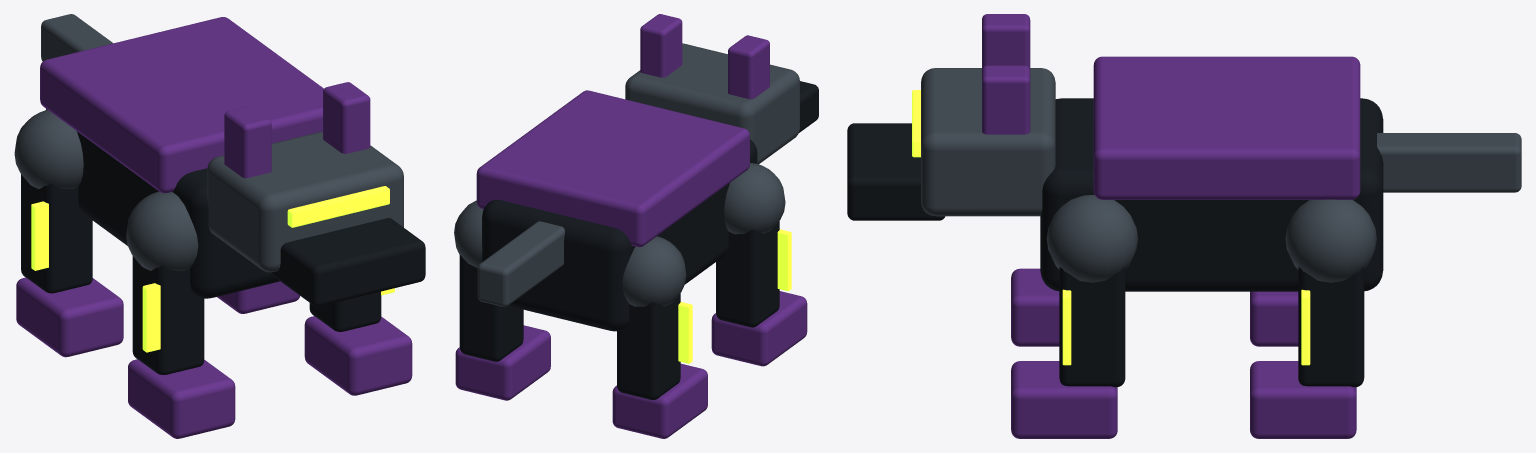
File: hound_l01.glb
The picture shows the model from 3 angles, left to right: view 1: azimuth 30°, elevation 25°; view 2: azimuth 150°, elevation 25°; view 3: azimuth 270°, elevation 25°; orthographic projection. The views are drawn at different scales.
Parts seen in each view (by area): view 1: dorsal_plating, armoured_paw (×4), hound_head, servo_leg (×3), muzzle, hound_core, hip_joint (×2), ear_array (×2), servo_light (×2), tail, tracking_optics; view 2: dorsal_plating, servo_leg (×3), hound_core, armoured_paw (×3), hound_head, hip_joint (×3), tail, ear_array (×2), servo_light (×2), muzzle; view 3: dorsal_plating, hound_core, armoured_paw (×4), hound_head, servo_leg (×2), hip_joint (×2), tail, muzzle, ear_array (×2), servo_light (×2).
Boxes of the visible parts, x1,y1,x2,y2 form: dorsal_plating: (40, 17, 323, 193); armoured_paw (×4): (16, 277, 412, 438); hound_head: (207, 131, 403, 272); servo_leg (×3): (21, 174, 381, 374); muzzle: (271, 218, 425, 306); hound_core: (46, 109, 279, 298); hip_joint (×2): (14, 110, 198, 270); ear_array (×2): (224, 82, 370, 178); servo_light (×2): (31, 201, 160, 352); tail: (41, 14, 112, 61); tracking_optics: (287, 186, 389, 227); dorsal_plating: (476, 90, 749, 247); servo_leg (×3): (459, 221, 779, 399); hound_core: (482, 139, 757, 331); armoured_paw (×3): (455, 291, 807, 438); hound_head: (625, 43, 799, 164); hip_joint (×3): (454, 163, 785, 306); tail: (477, 221, 564, 306); ear_array (×2): (640, 14, 769, 99); servo_light (×2): (678, 229, 791, 363); muzzle: (799, 81, 818, 132); dorsal_plating: (1093, 56, 1360, 199); hound_core: (1040, 98, 1383, 291); armoured_paw (×4): (1011, 268, 1356, 438); hound_head: (921, 68, 1055, 216); servo_leg (×2): (1059, 267, 1364, 387); hip_joint (×2): (1046, 195, 1376, 282); tail: (1377, 133, 1521, 192); muzzle: (847, 123, 945, 220); ear_array (×2): (982, 14, 1030, 134); servo_light (×2): (1062, 289, 1310, 365).
Bounding box in the file's own units: 1.22 × 1.45 × 2.66.
